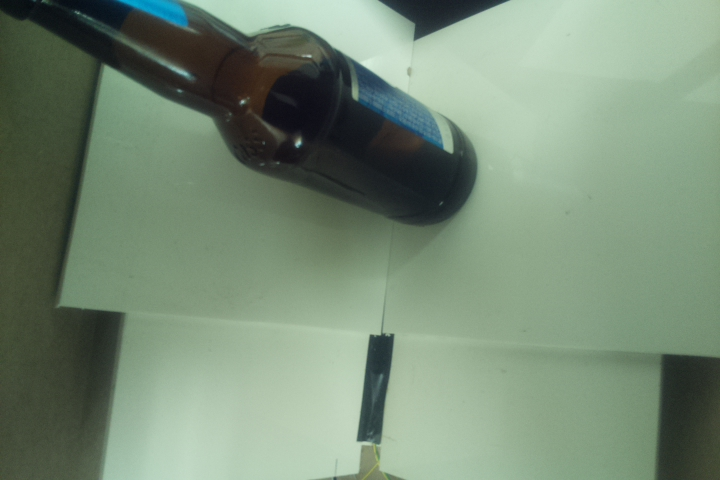makju: (1, 1, 480, 227)
